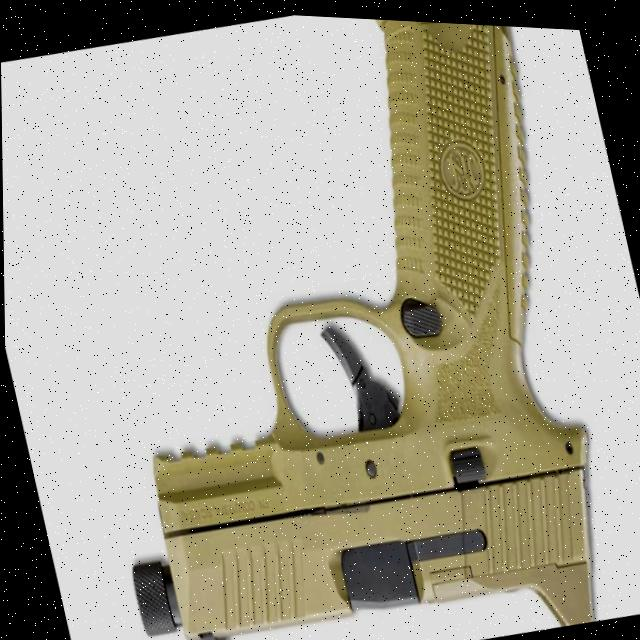pistol: (14, 1, 640, 640)
